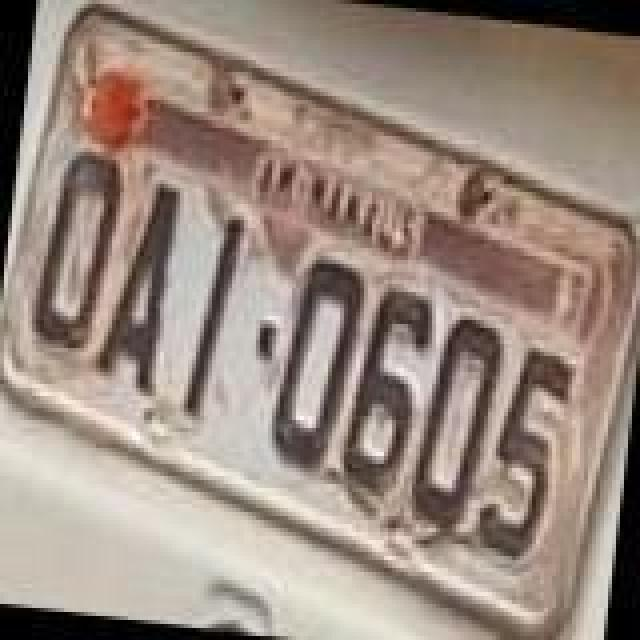1: (180, 210, 252, 422)
5: (470, 336, 578, 560)
6: (334, 282, 434, 502)
A: (90, 176, 182, 400)
O: (404, 312, 508, 536), (264, 254, 368, 474), (28, 142, 132, 354)
